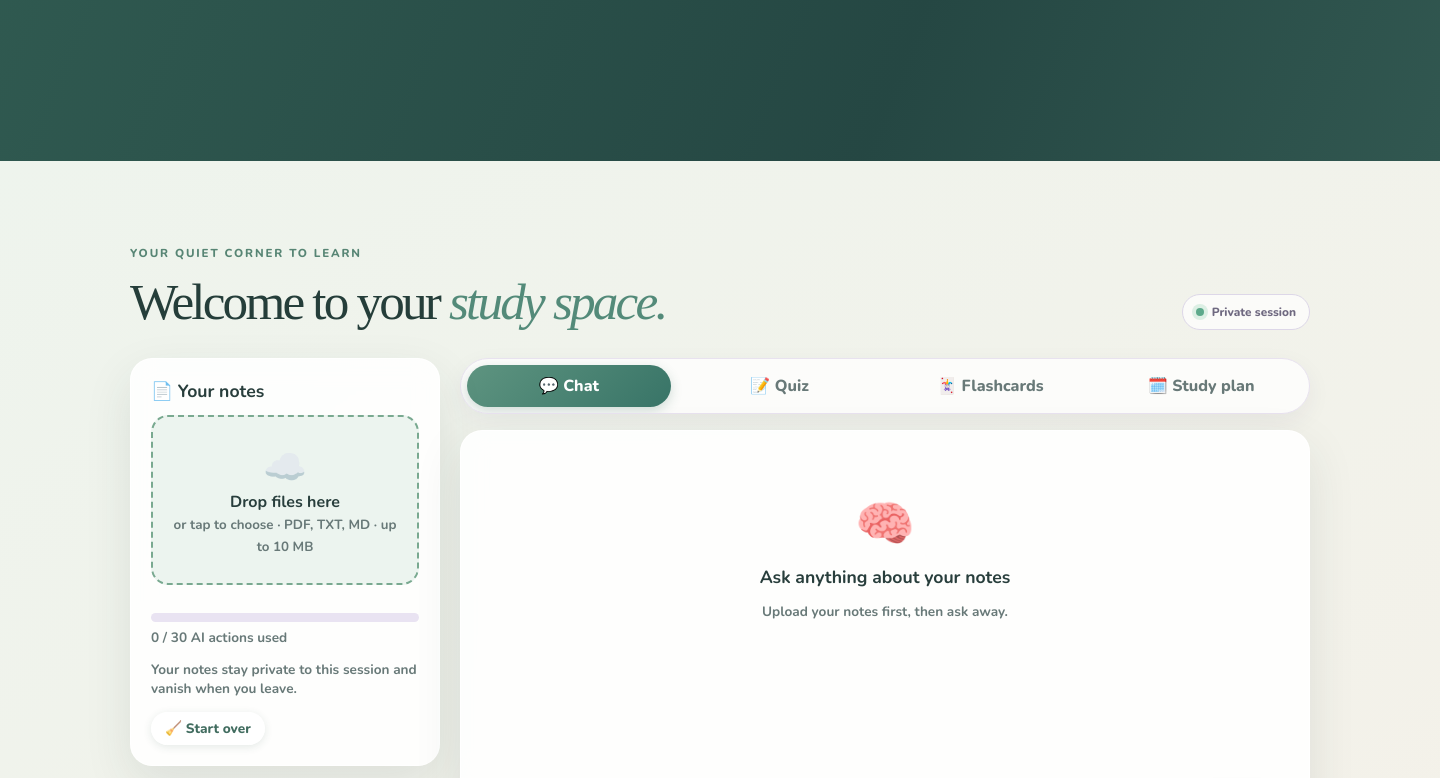
Test: tabs ask for notes before upload
(page scrolled)
Click the button "📝 Quiz". click: (780, 386)
box: [678, 365, 882, 407]
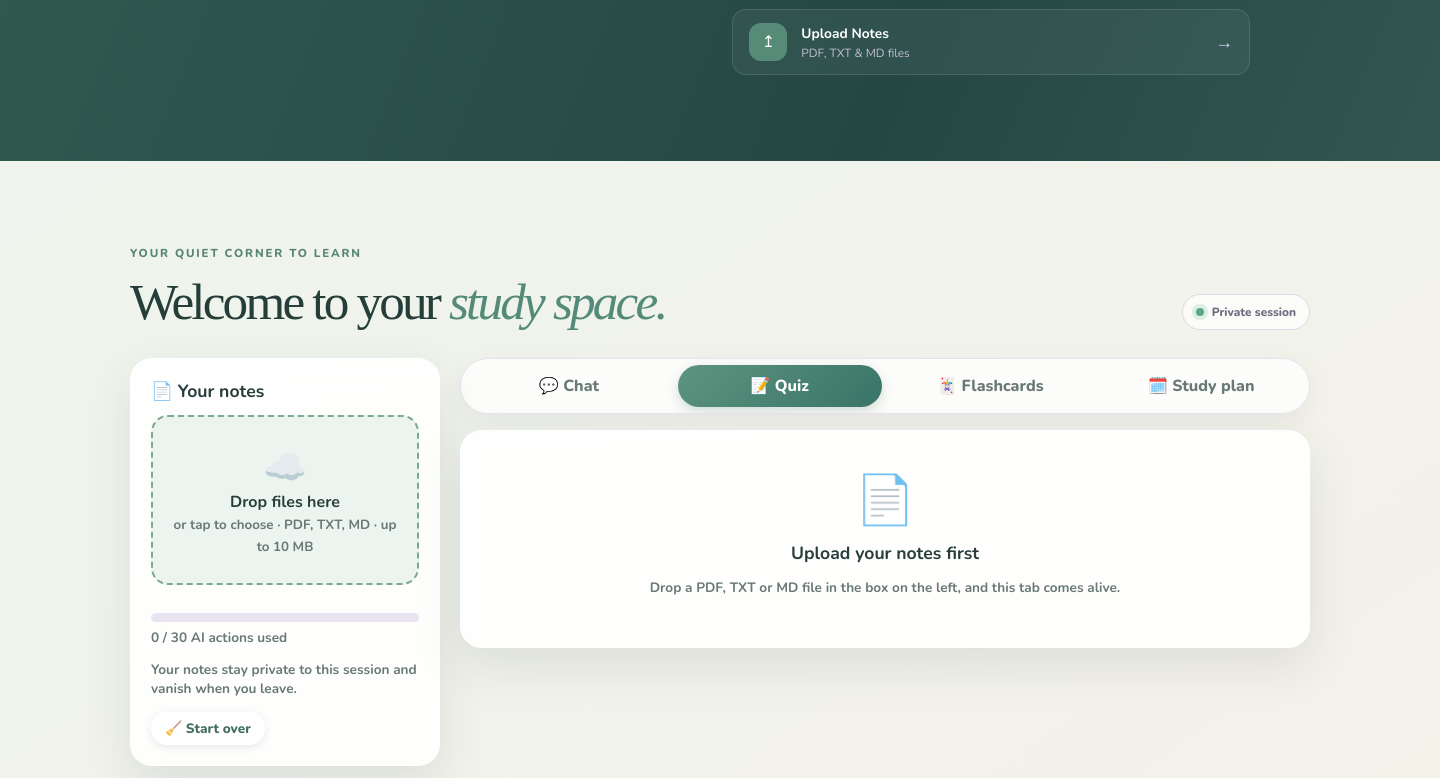
Now the heading "Upload your notes first" is shown, box [791, 541, 979, 565]
